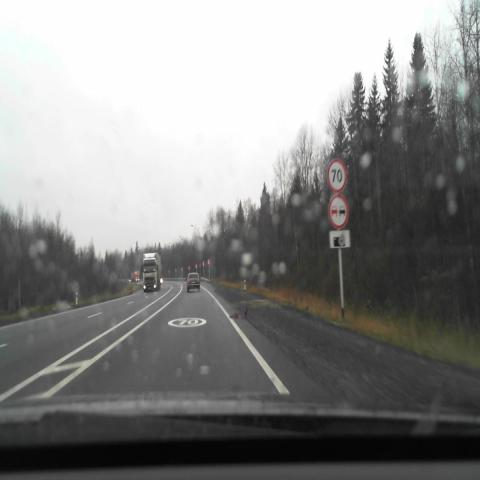8_23: (330, 231, 350, 248)
